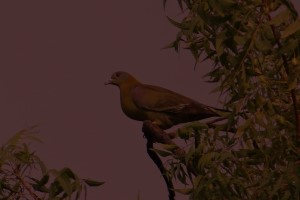pigeon: (103, 70, 226, 130)
